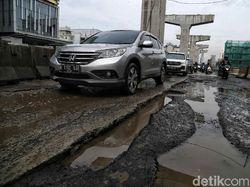Pothole: (29, 69, 250, 187)
